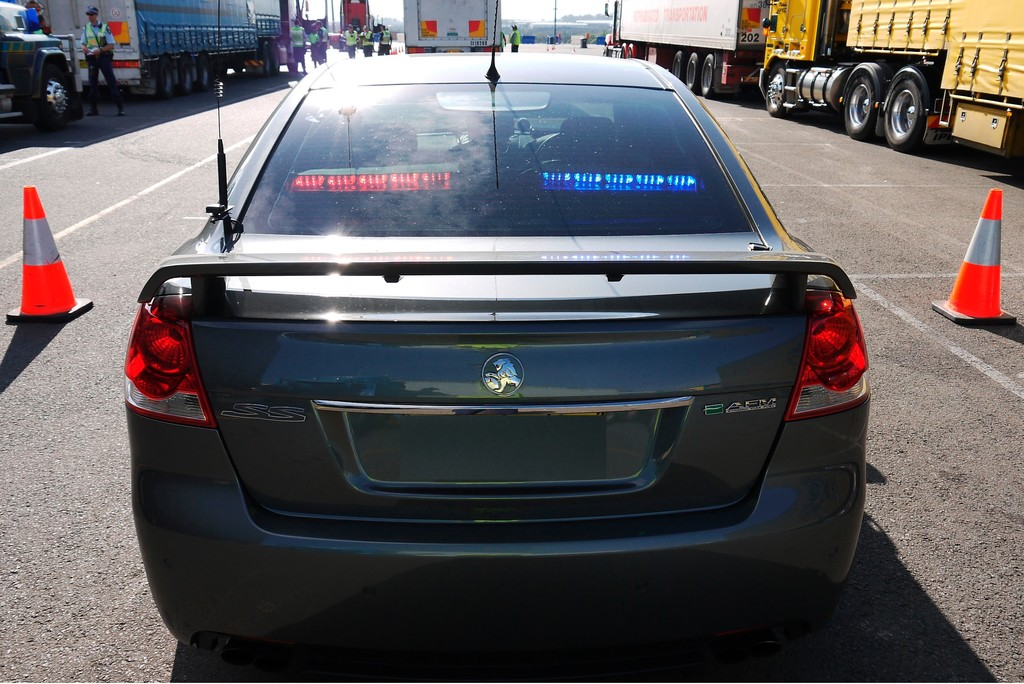car: (99, 50, 894, 669)
truck: (749, 1, 1024, 185), (42, 1, 315, 132), (581, 1, 767, 123)
